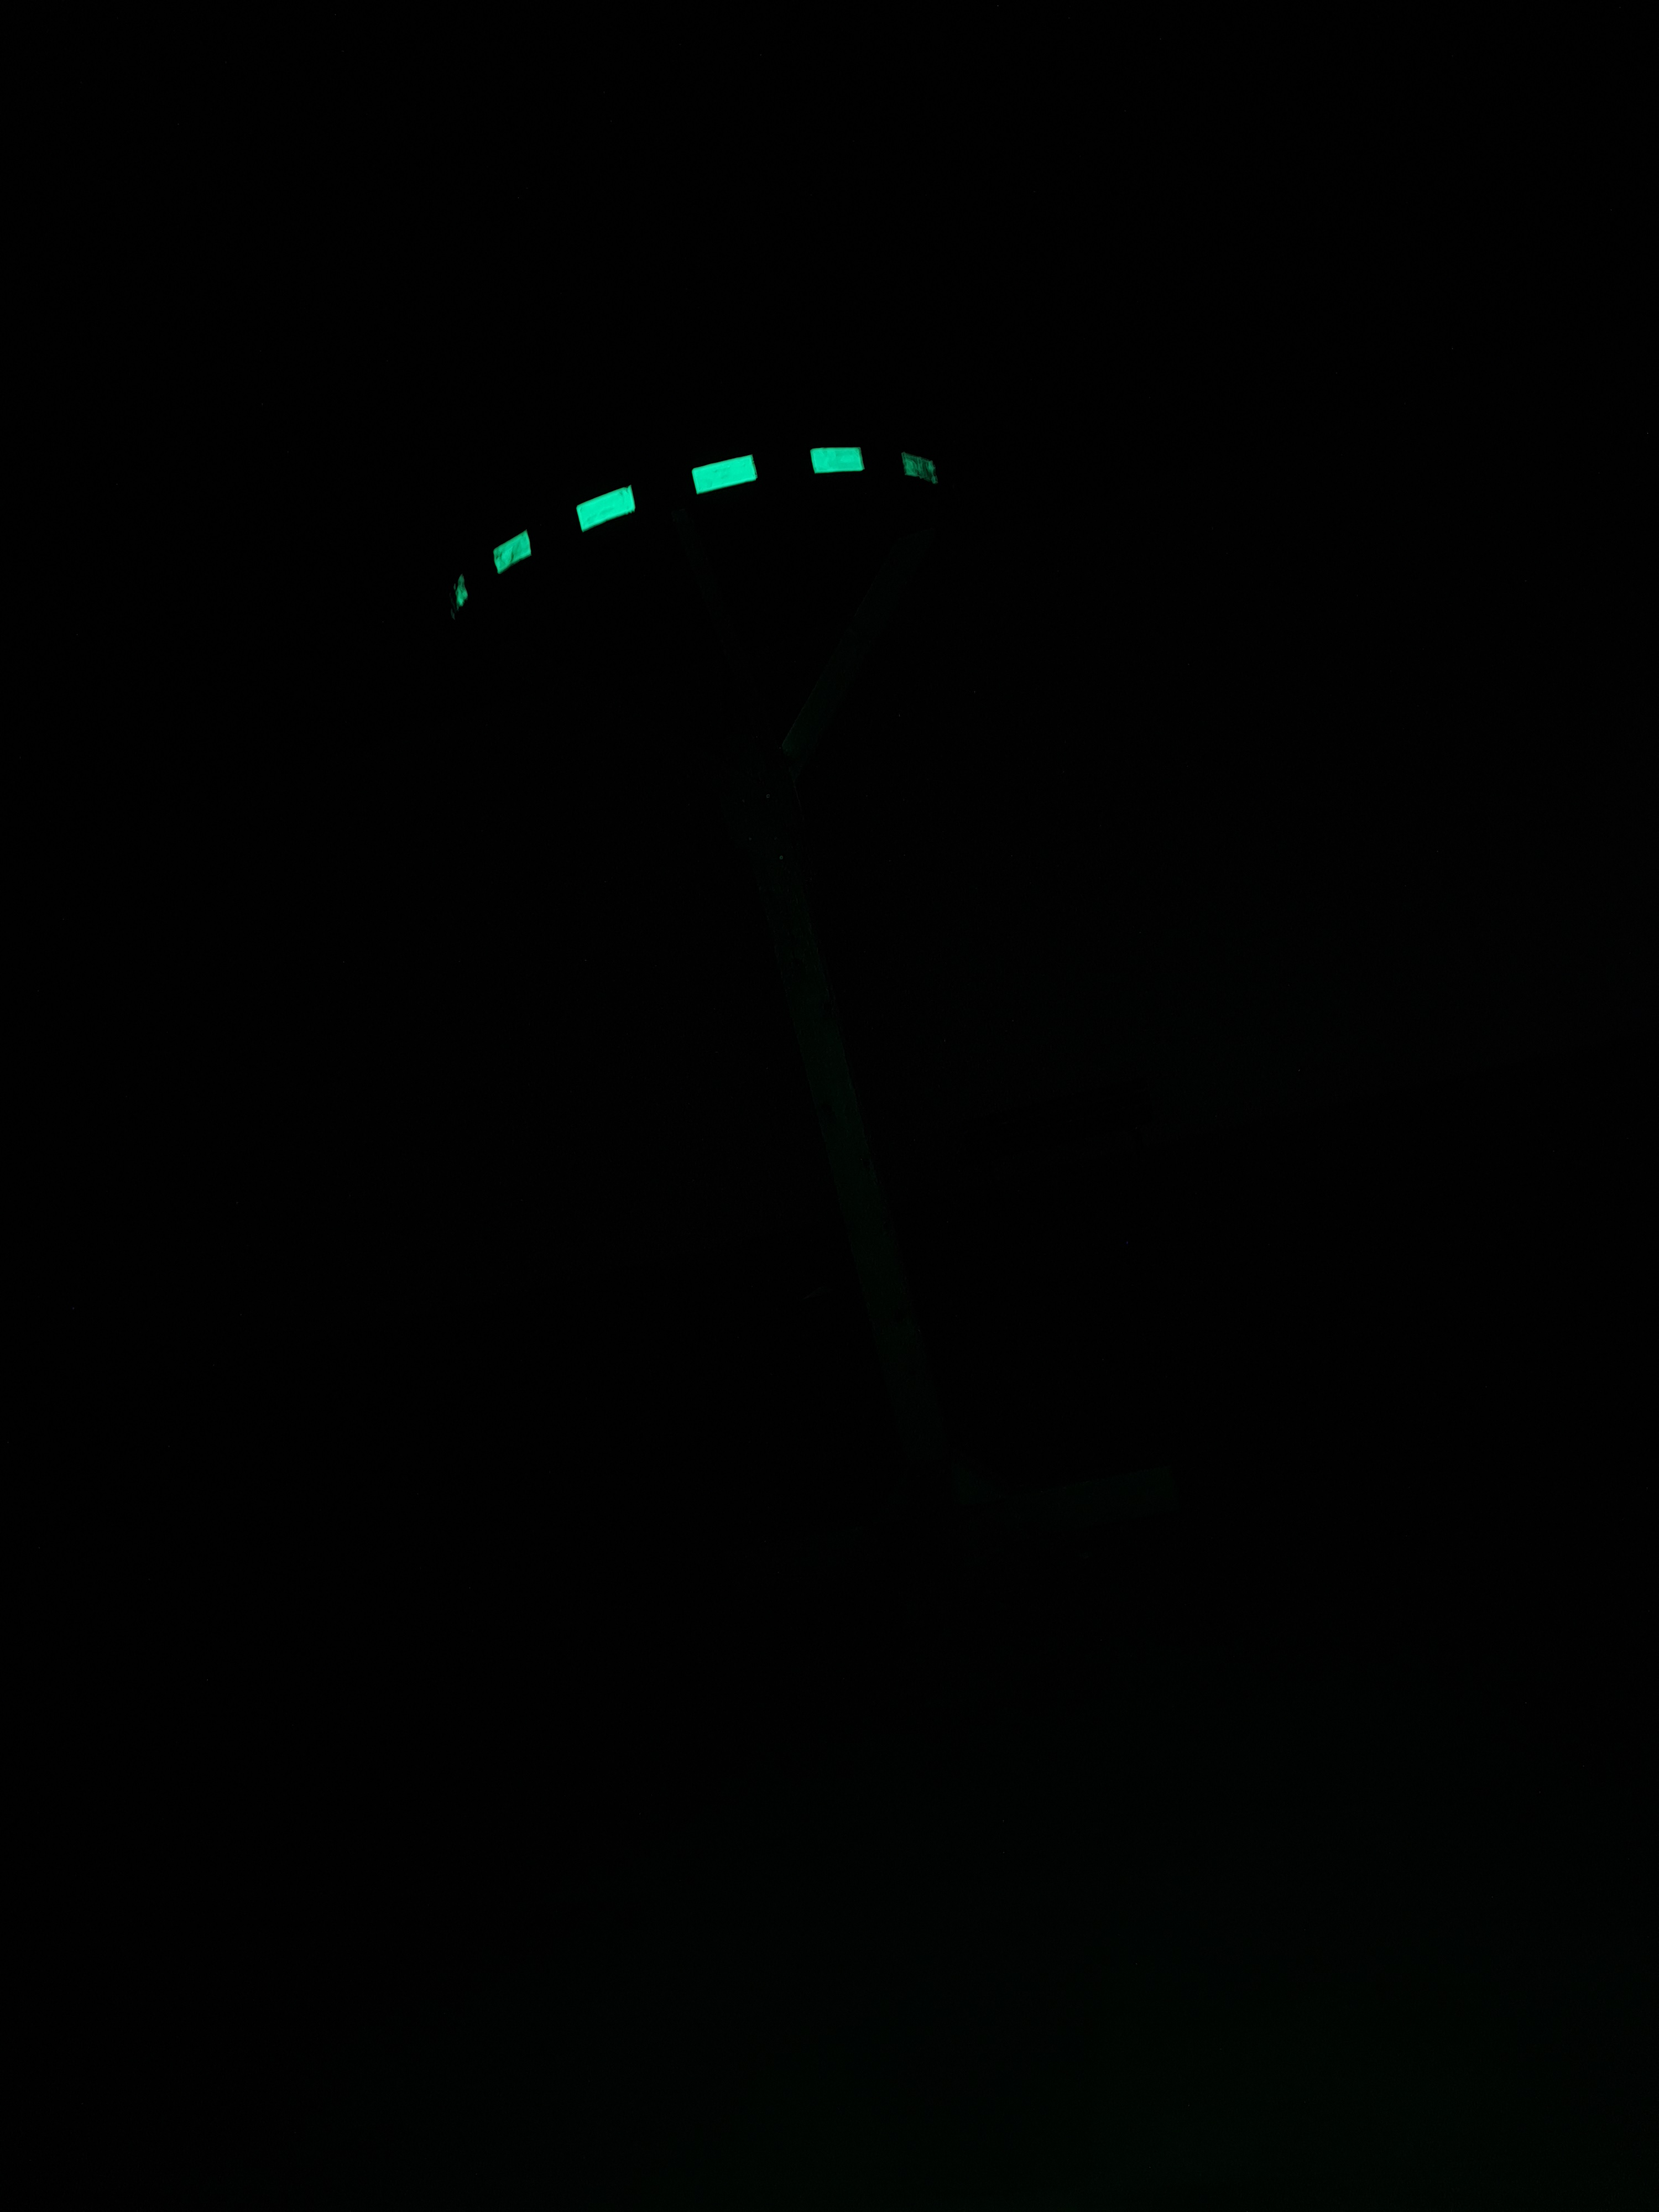hoop: (450, 435, 939, 627)
